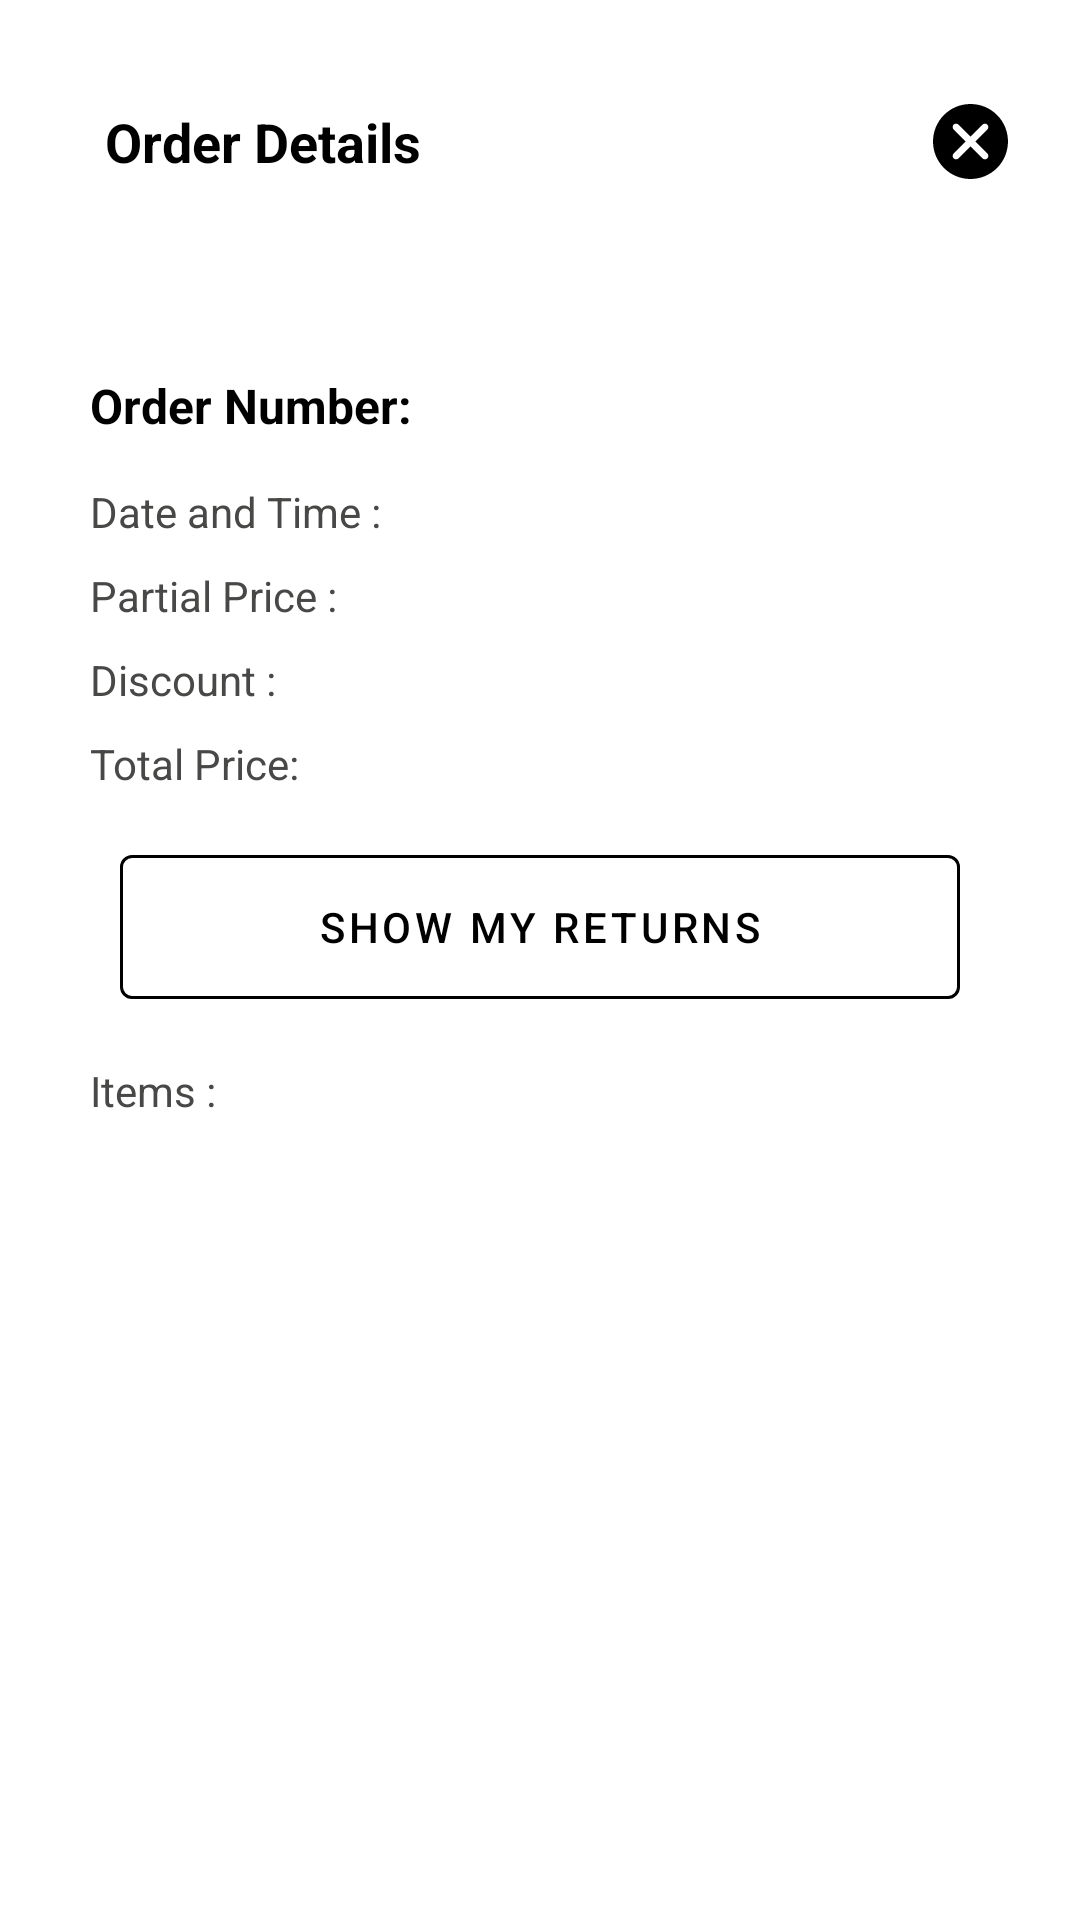

Icon click points for this 1080 x 1920 phone screenshot, format point (x, y):
close: point (970, 141)
